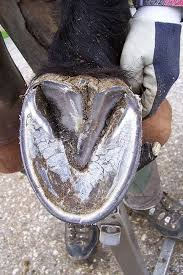horsesole: (19, 79, 143, 226)
